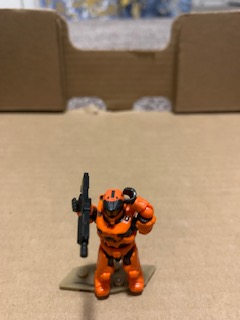rifle: (71, 173, 98, 259)
spartan: (69, 186, 157, 300)
up: (67, 184, 157, 250)
